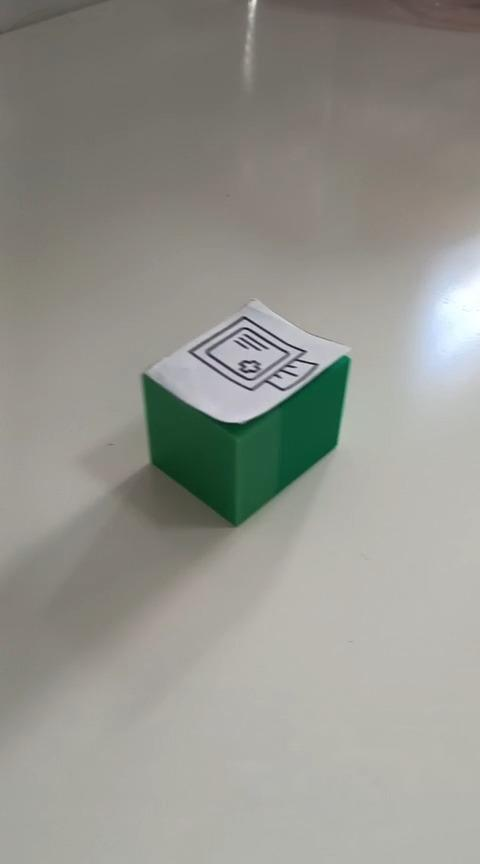Gauze: (140, 295, 352, 527)
